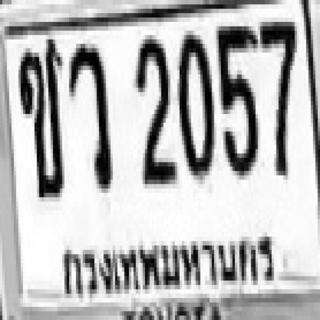A10: (16, 35, 62, 197)
A37: (67, 40, 111, 188)
N00: (177, 31, 212, 175)
N02: (135, 33, 174, 182)
N05: (216, 22, 256, 171)
N07: (258, 18, 295, 171)
P04: (56, 223, 275, 301)
